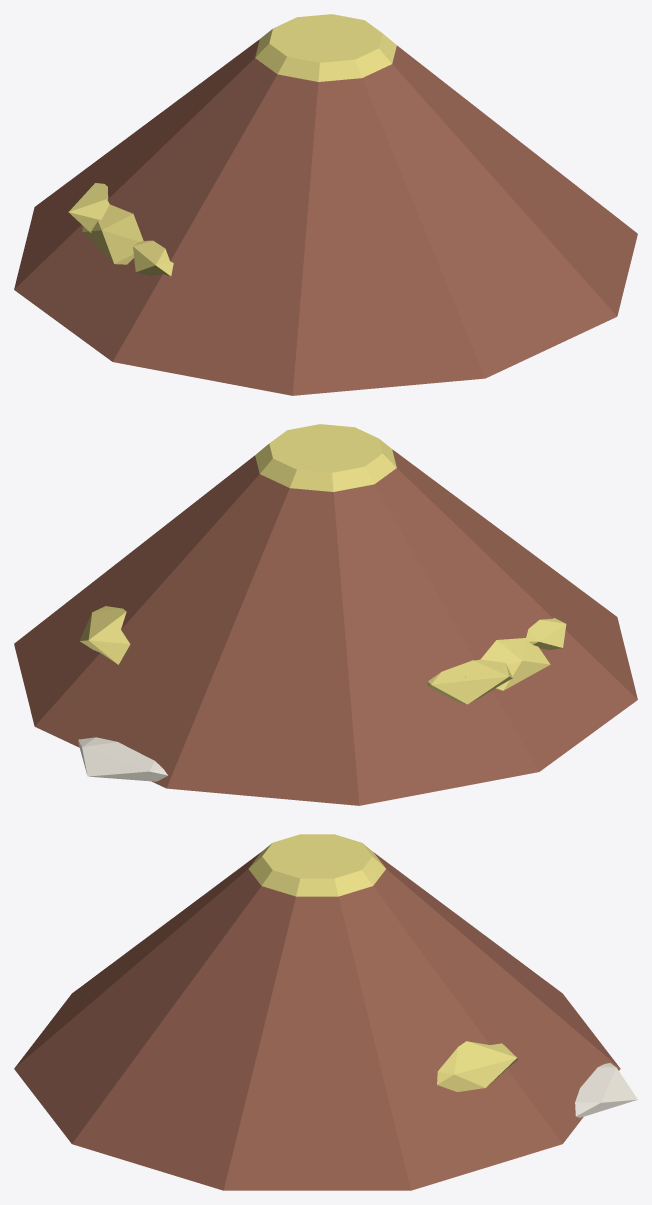
The model's file is Fumarole.glb.
3 renders of one model, top to bottom at view 1: azimuth 30°, elevation 25°; view 2: azimuth 150°, elevation 25°; view 3: azimuth 270°, elevation 25°, orthographic. The views are drawn at different scales.
Parts seen in each view (by area): view 1: Vent cone, Sulphur rim, Sulphur crust.003, Sulphur crust.001, Sulphur crust.002; view 2: Vent cone, Sulphur rim, Sinter.002, Sulphur crust.001, Sulphur crust, Sulphur crust.003, Sulphur crust.002; view 3: Vent cone, Sulphur rim, Sulphur crust, Sinter.002.
Part boxes in pixels (box(x1,y1,x2,y2)): Vent cone: box(14, 39, 637, 395); Sulphur rim: box(255, 14, 396, 81); Sulphur crust.003: box(82, 195, 143, 264); Sulphur crust.001: box(68, 183, 109, 232); Sulphur crust.002: box(133, 240, 173, 276); Vent cone: box(14, 449, 637, 805); Sulphur rim: box(255, 424, 396, 491); Sinter.002: box(78, 737, 167, 781); Sulphur crust.001: box(427, 659, 512, 704); Sulphur crust: box(79, 606, 130, 664); Sulphur crust.003: box(465, 638, 550, 690); Sulphur crust.002: box(526, 618, 566, 650); Vent cone: box(14, 852, 620, 1190); Sulphur rim: box(248, 834, 385, 896); Sulphur crust: box(437, 1041, 517, 1091); Sinter.002: box(575, 1063, 637, 1117).
Bounding box in the file's own units: 4.18 × 1.74 × 4.53.
